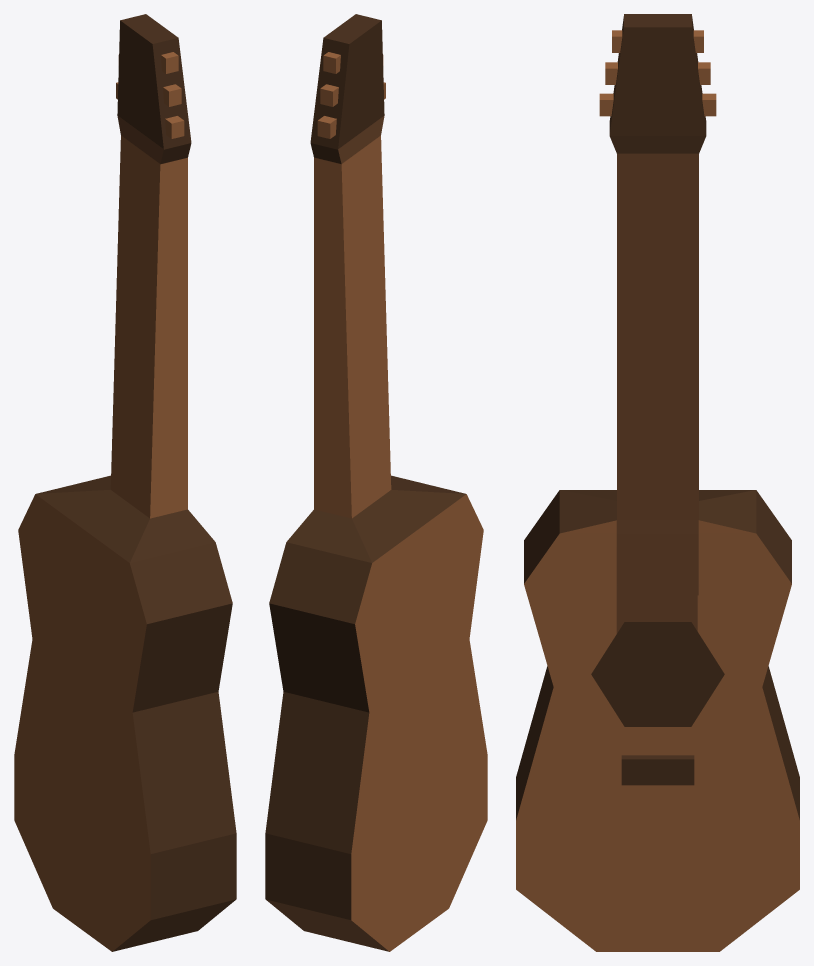
File: Guitar.fbx
The picture shows the model from 3 angles, left to right: view 1: azimuth 30°, elevation 25°; view 2: azimuth 150°, elevation 25°; view 3: azimuth 270°, elevation 25°; orthographic projection. The views are drawn at different scales.
Visible parts, largest first — view 1: Guitar; view 2: Guitar; view 3: Guitar.
Boxes of the visible parts, <box> form: Guitar: <box>14,14,236,951</box>; Guitar: <box>265,14,487,951</box>; Guitar: <box>516,14,799,951</box>.
Bounding box in the file's own units: 128 × 1153 × 322.
